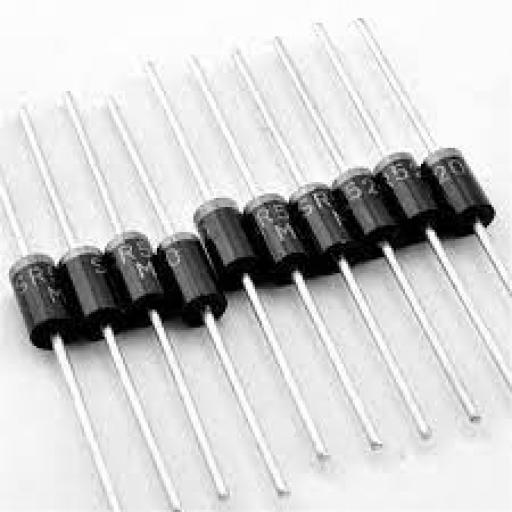DIODE: (0, 14, 510, 510), (102, 184, 184, 343), (398, 103, 477, 263), (158, 208, 230, 339), (321, 141, 384, 278), (10, 246, 82, 354), (58, 228, 122, 348), (188, 177, 250, 287), (290, 165, 344, 285), (252, 179, 304, 291), (365, 138, 421, 242)
